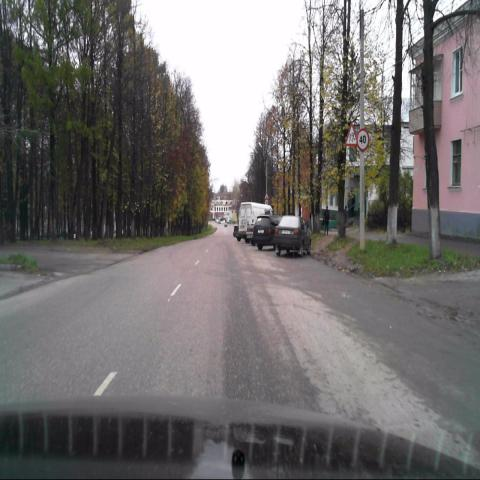1_23: (344, 123, 358, 146)
3_24: (357, 129, 369, 151)
